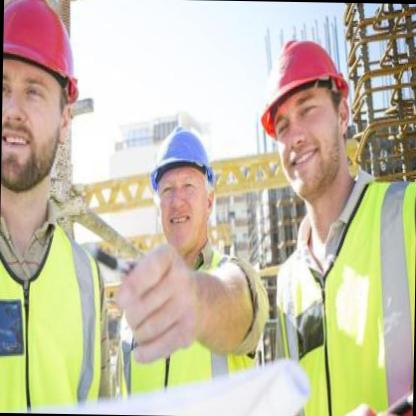bee: (247, 23, 366, 206), (0, 0, 91, 198), (140, 105, 224, 259)
